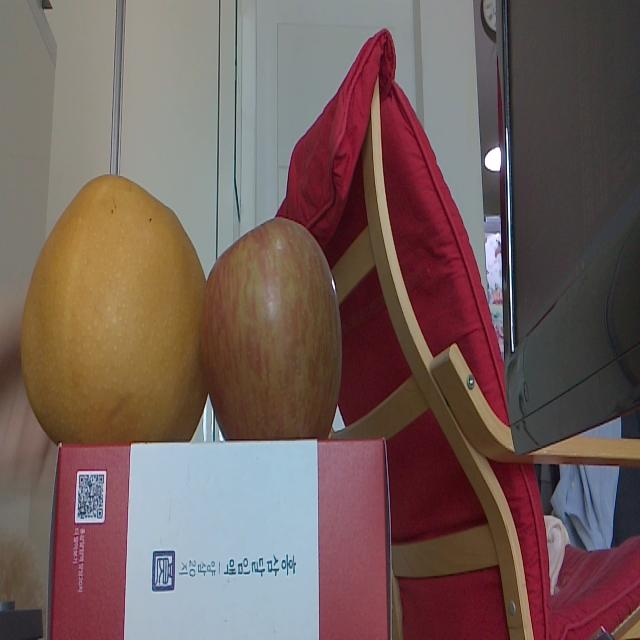apple: (211, 211, 343, 443)
pear: (20, 174, 212, 444)
